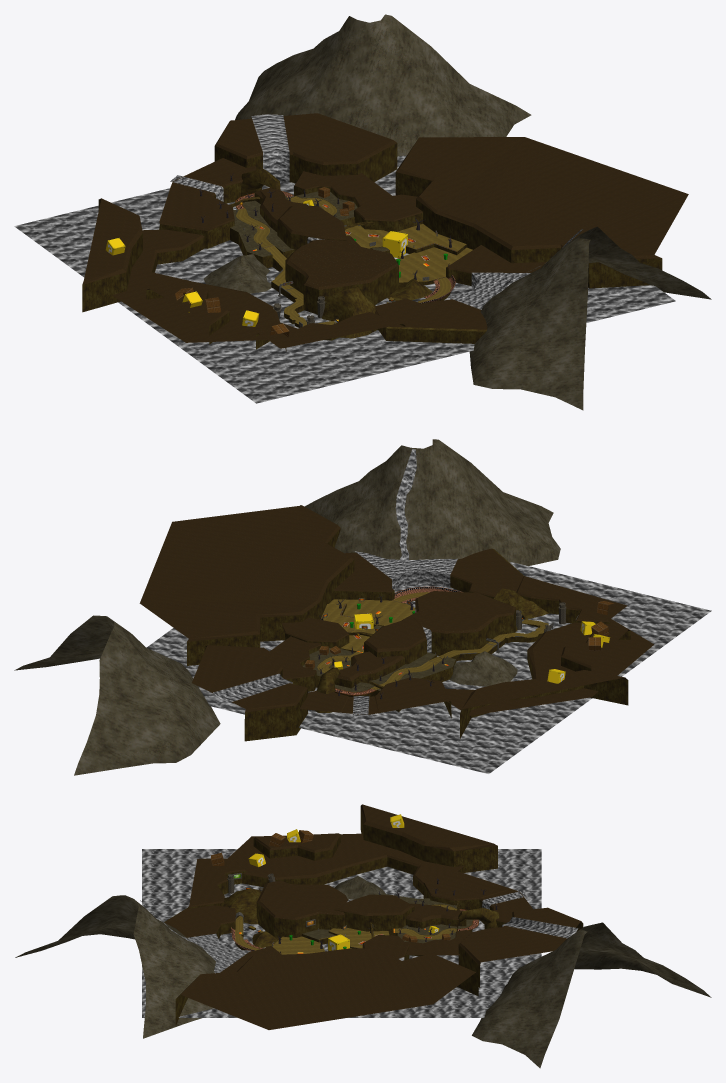
3 views of the same model, one above another, from view 1: azimuth 30°, elevation 25°; view 2: azimuth 150°, elevation 25°; view 3: azimuth 270°, elevation 25° (orthographic). The views are drawn at different scales.
Parts seen in each view (by area): view 1: dirt, kazan, ef_volSurface, walls, road, ef_volFall, tuchi, qBloc, bros; view 2: dirt, kazan, ef_volSurface, walls, ef_volFall, road, tuchi, qBloc, bros; view 3: dirt, kazan, ef_volSurface, walls, ef_volFall, road, tuchi, qBloc, bros.
Part boxes in pixels (x1,y1,x2,y2): dirt: (82,113,688,348); kazan: (204,14,711,410); ef_volSurface: (14,155,675,403); walls: (82,143,662,351); road: (236,196,472,326); ef_volFall: (170,114,582,309); tuchi: (230,191,388,256); qBloc: (105,199,407,326); bros: (175,187,354,337); dirt: (139,505,653,715); kazan: (14,439,560,775); ef_volSurface: (147,562,711,773); walls: (187,505,630,741); ef_volFall: (213,449,457,716); road: (317,592,548,689); tuchi: (302,625,455,692); qBloc: (334,613,610,683); bros: (305,601,614,669); dirt: (164,804,582,1029); kazan: (15,876,711,1068); ef_volSurface: (142,849,541,1017); walls: (164,808,583,1024); ef_volFall: (140,891,578,973); road: (235,904,456,954); tuchi: (302,893,472,943); qBloc: (248,814,439,950); bros: (211,830,450,942).
Size of the model in its own units: 245109 by 53117 by 321590.
23 materials, 23 textured.
